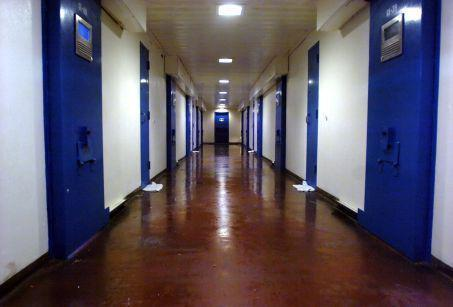Puerta: (370, 6, 417, 247), (62, 2, 105, 237), (139, 42, 150, 183), (306, 49, 316, 187), (274, 78, 285, 169), (168, 78, 177, 169)
